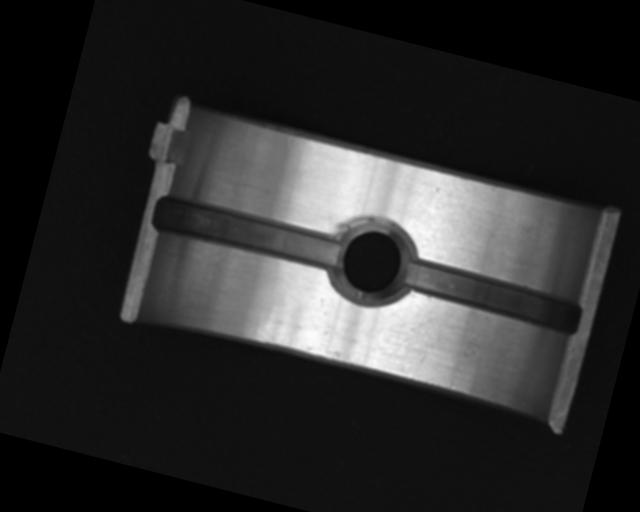gap: (149, 188, 344, 279), (399, 257, 585, 335)
hole: (319, 205, 426, 319)
